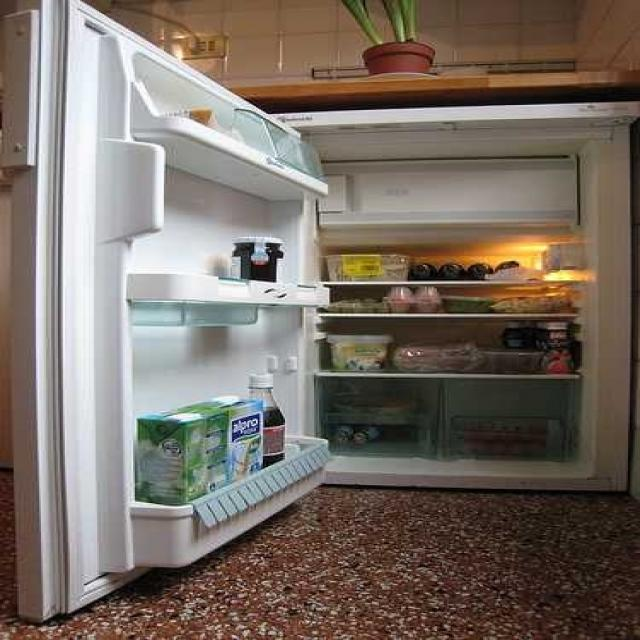refrigerator: (49, 0, 640, 497)
